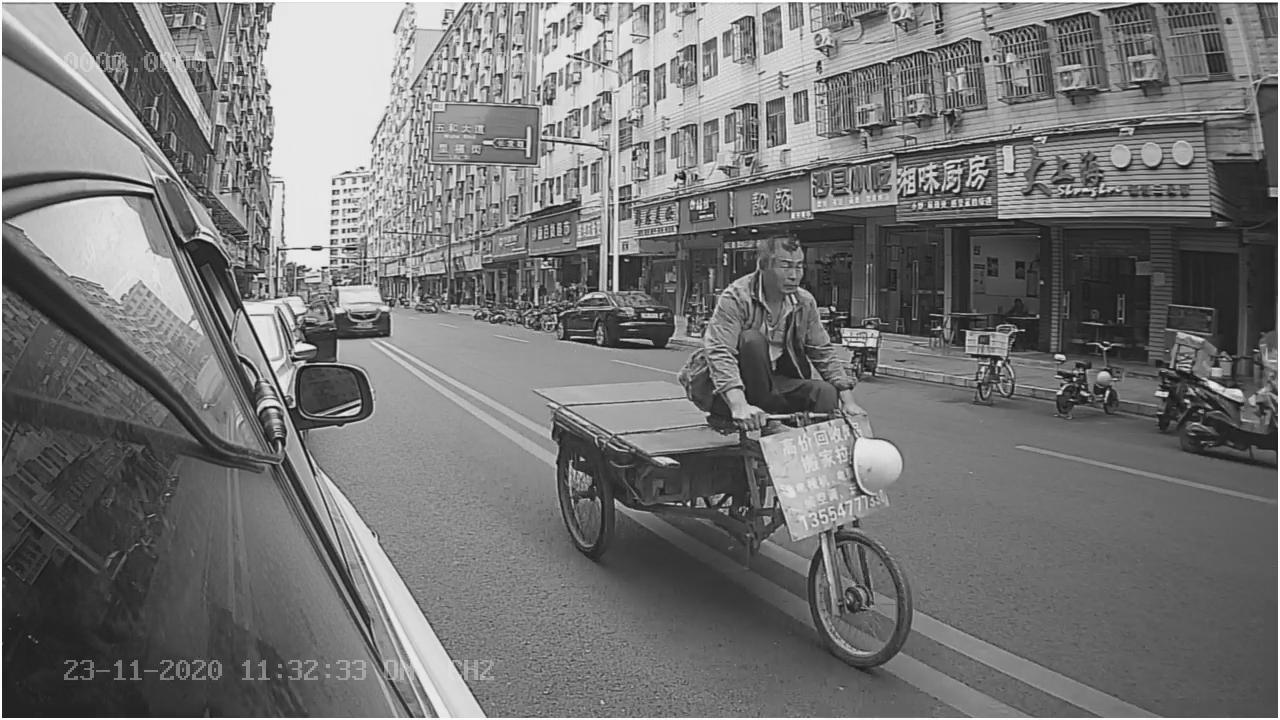person: (675, 221, 864, 435)
